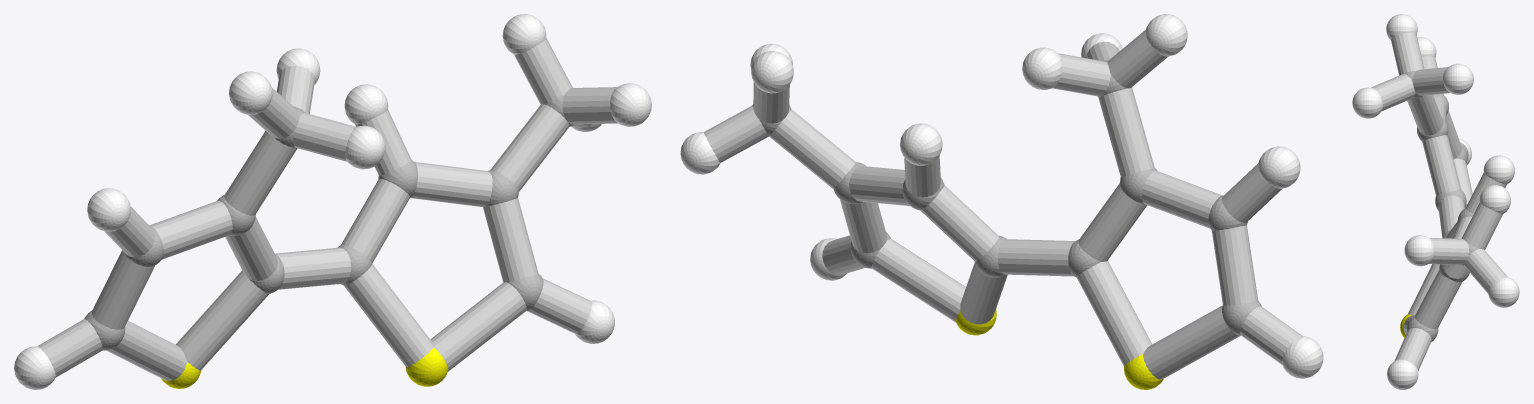
Rendered from Methylthiophene_Phi_15_Theta_140_Methylthiophene.glb.
3 views of the same model, side by side, from view 1: azimuth 30°, elevation 25°; view 2: azimuth 150°, elevation 25°; view 3: azimuth 270°, elevation 25° (orthographic). The views are drawn at different scales.
Parts seen in each view (by area): view 1: grp7965, grp3621, grp1, grp7241; view 2: grp7965, grp3621, grp1, grp7241; view 3: grp7965, grp3621, grp1.
Part boxes in pixels (x1,y1,x2,y2): grp7965: (38,38,618,380); grp3621: (14,14,651,389); grp1: (84,94,573,350); grp7241: (161,347,448,388); grp7965: (703,29,1302,379); grp3621: (680,14,1323,378); grp1: (752,59,1261,335); grp7241: (956,309,1163,389); grp7965: (1371,32,1507,370); grp3621: (1352,14,1519,389); grp1: (1405,70,1478,341).
Bounding box in the file's own units: 9.81 × 5.5 × 3.19.
